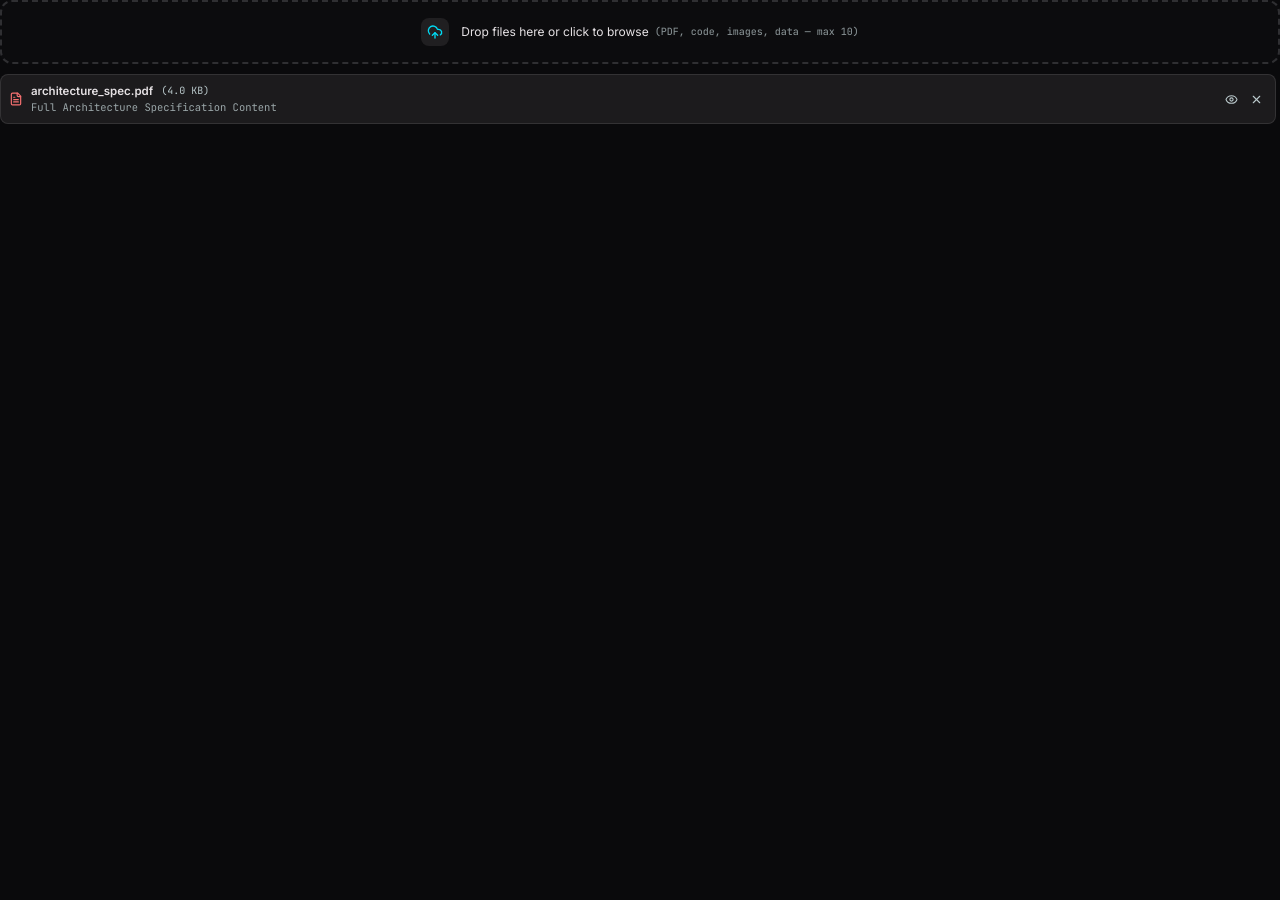
File Upload & Context Injection Frontend Tests › test_file_preview_modal_opens: clicking file opens modal showing full content and copy button
Note: Click on preview trigger
Click the button with test id "preview-btn-file-preview-999": (1232, 99) [1221,88,1242,110]
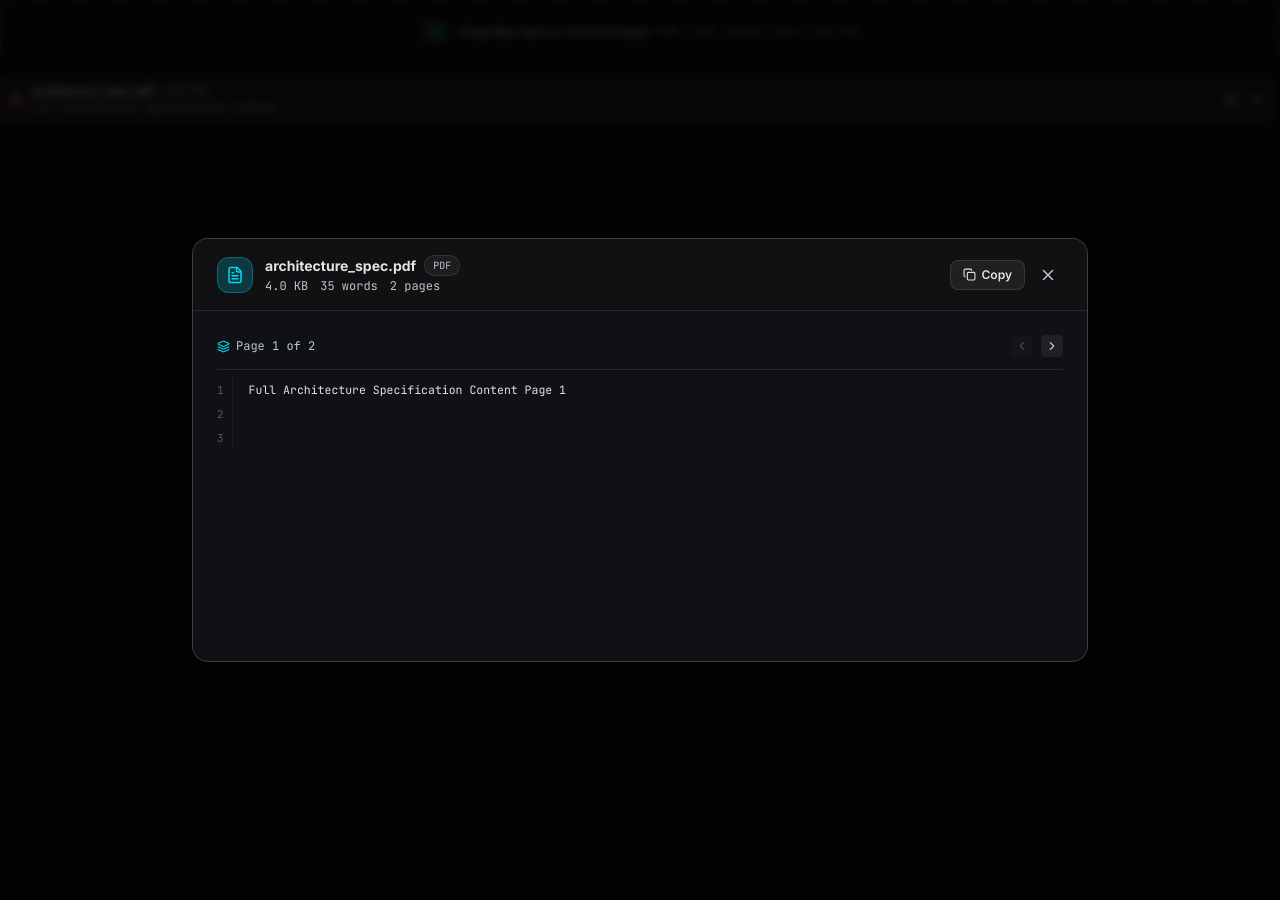
Check: the element with test id "file-preview-modal" is shown
Check: the button with test id "copy-content-btn" is shown, box [950,260,1025,290]
Note: Close button closes modal
Click the button with test id "close-preview-btn": (1048, 274) [1033,260,1063,290]
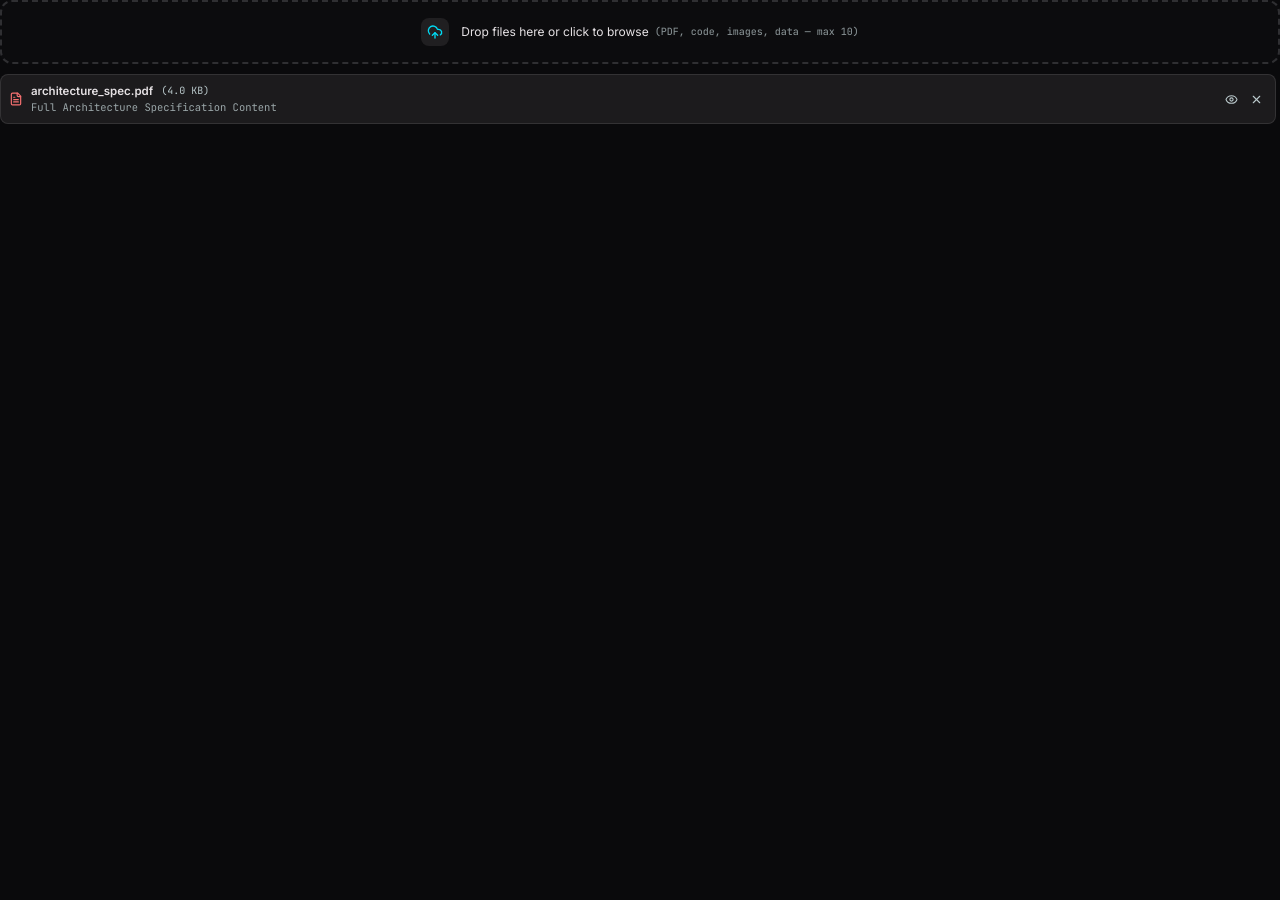
Check: the element with test id "file-preview-modal" is gone
